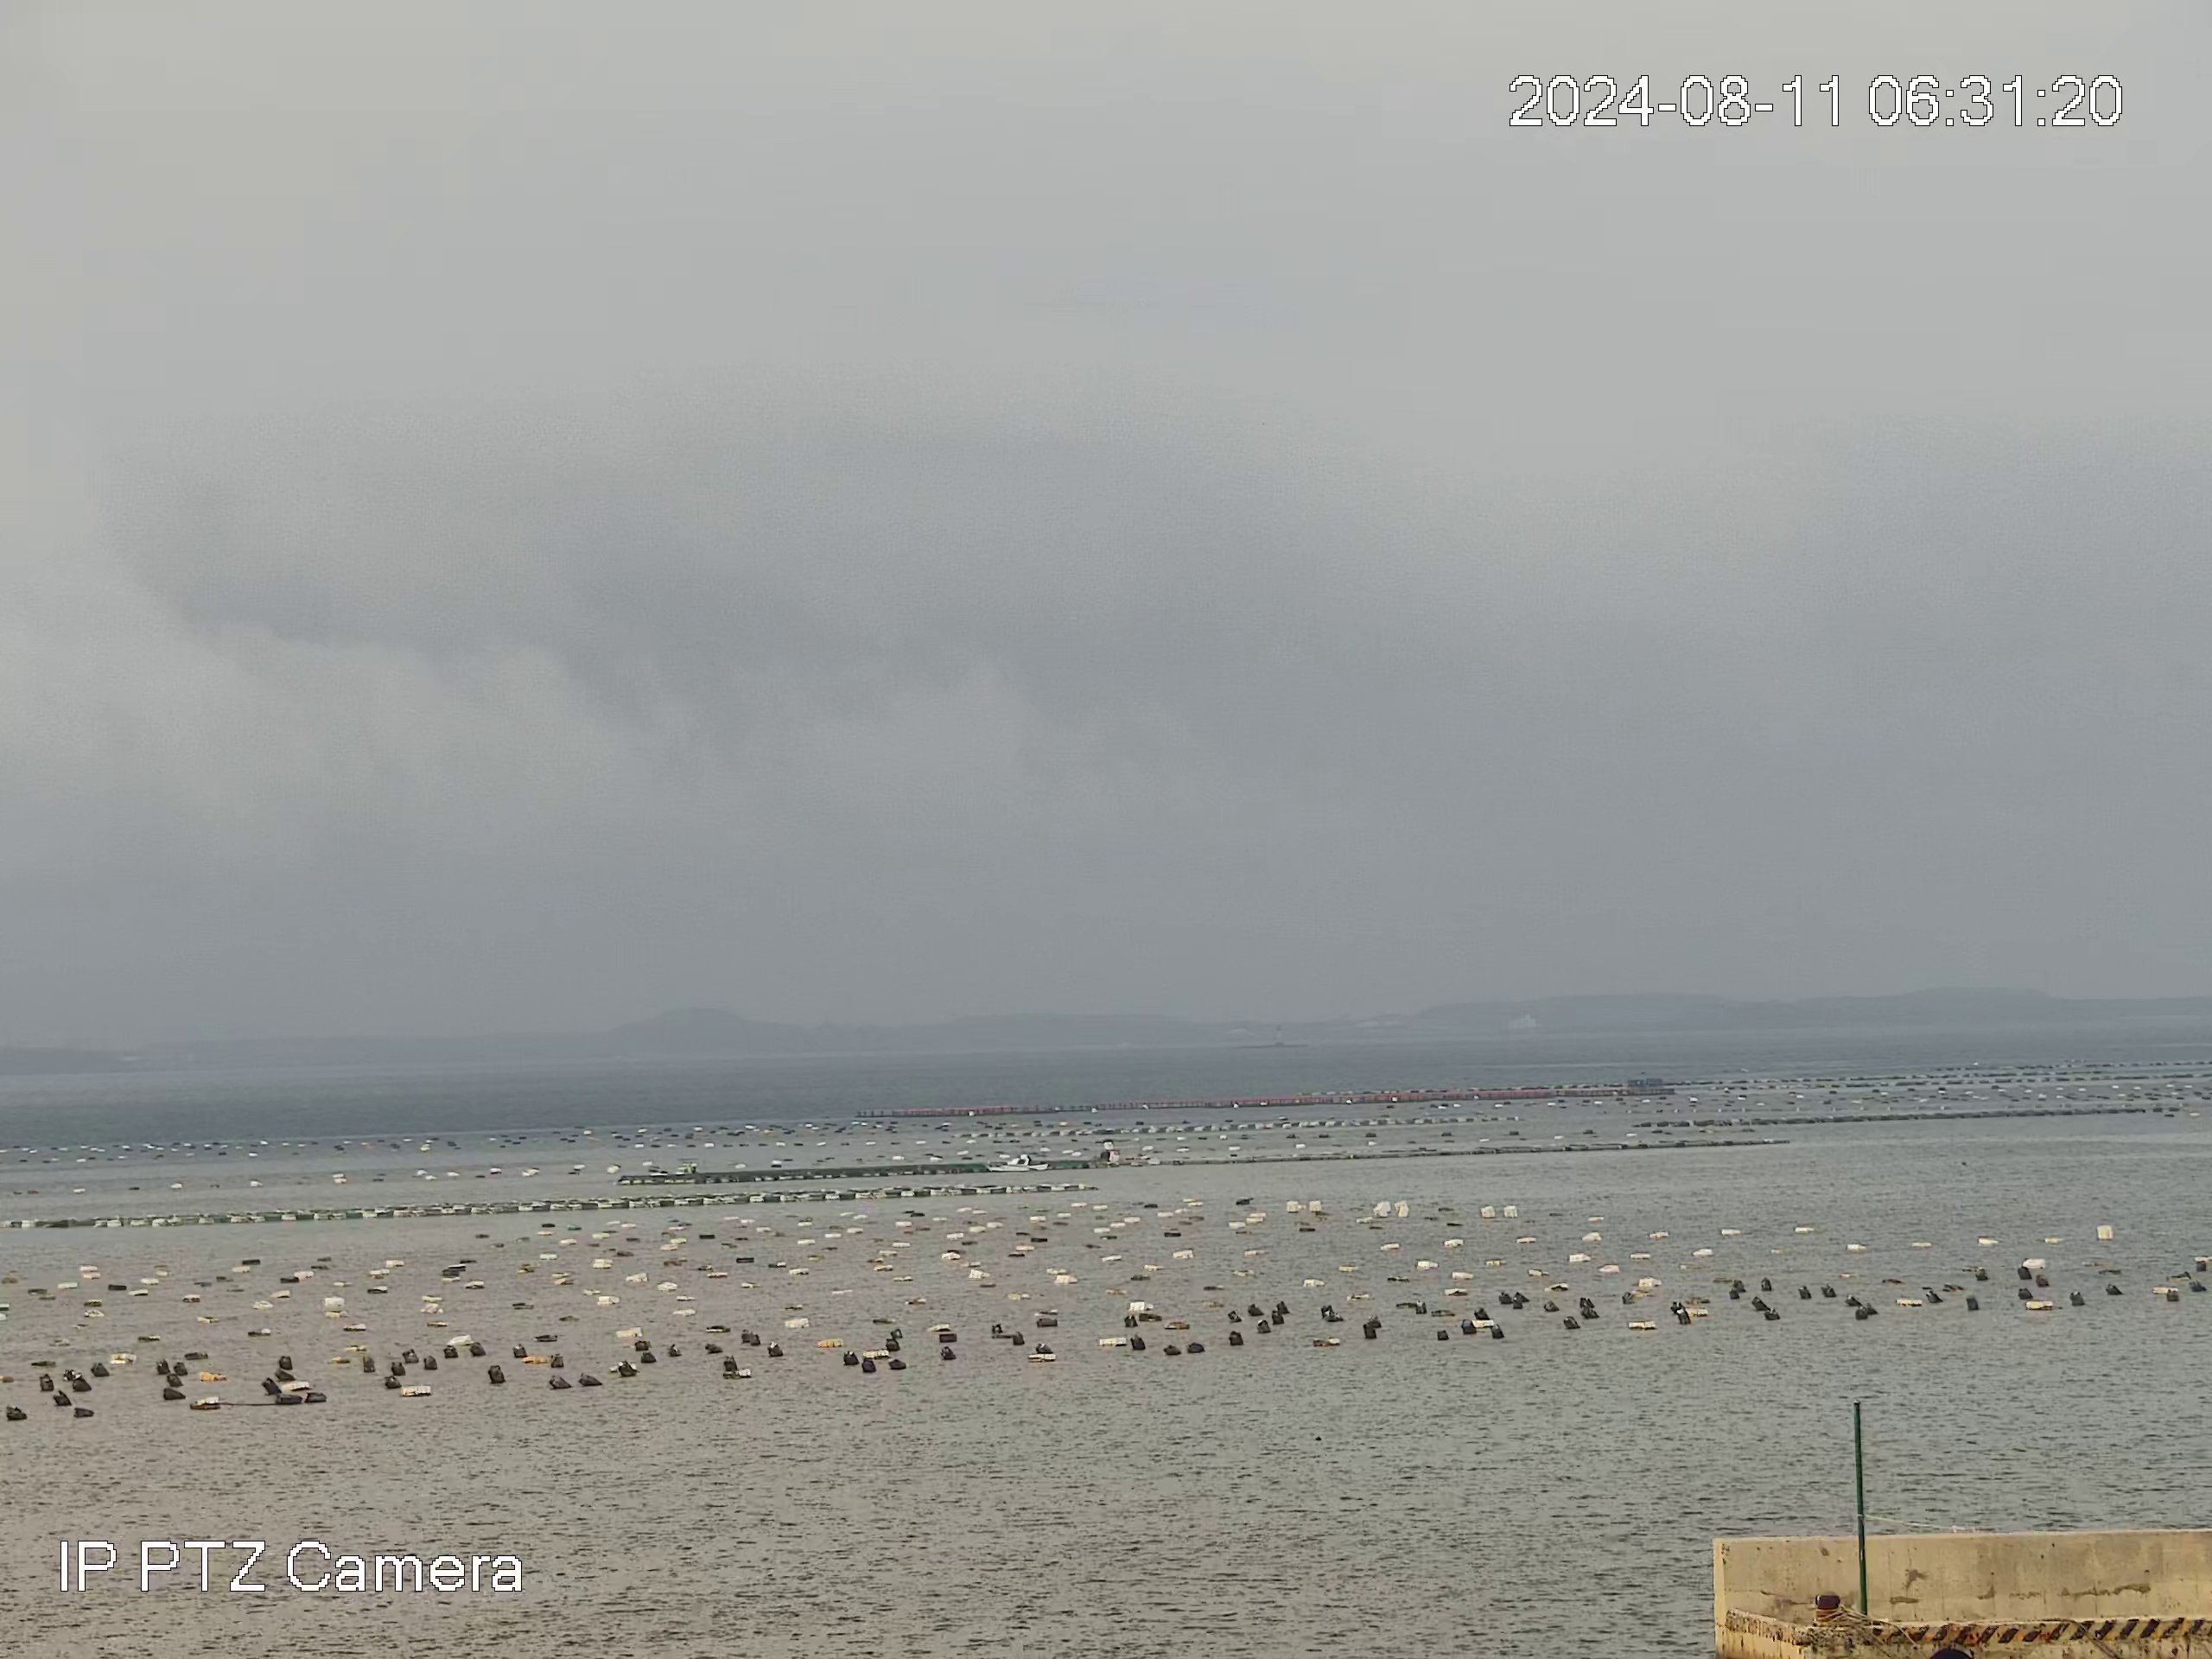boat: (984, 1152, 1050, 1173)
